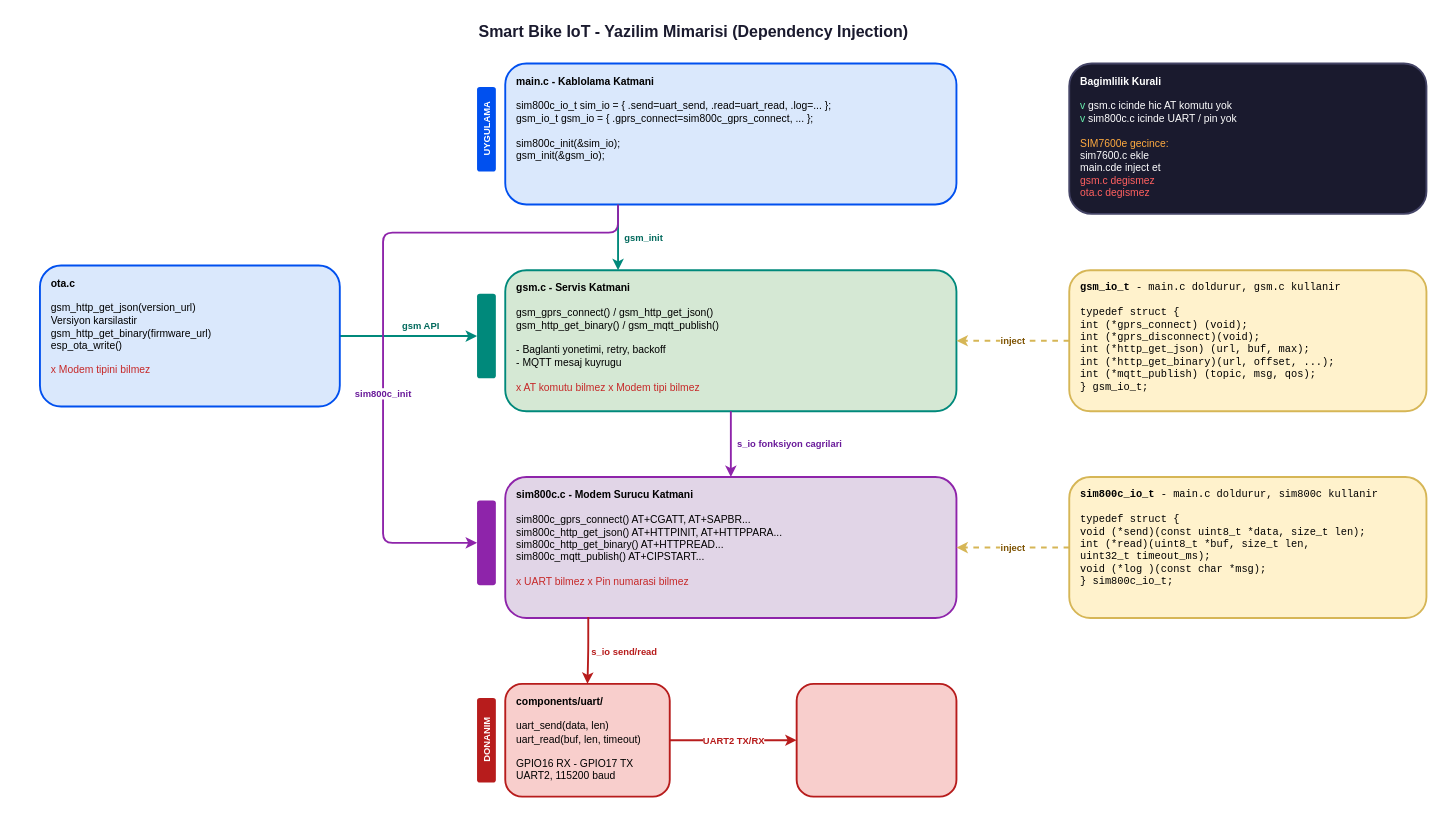
This 1443x813 diagram has some shape labels left out. Here are the shapes that lost their labels. From the top down, the centre of each, then its label:
At (x=486, y=335): "GSM SERVIS".
At (x=486, y=542): "MODEM SURUCU".
At (x=876, y=739): "SIM800C (Fiziksel Modul) GPRS (2G) SIM Kart boldmotorbikes.duckdns.org".
